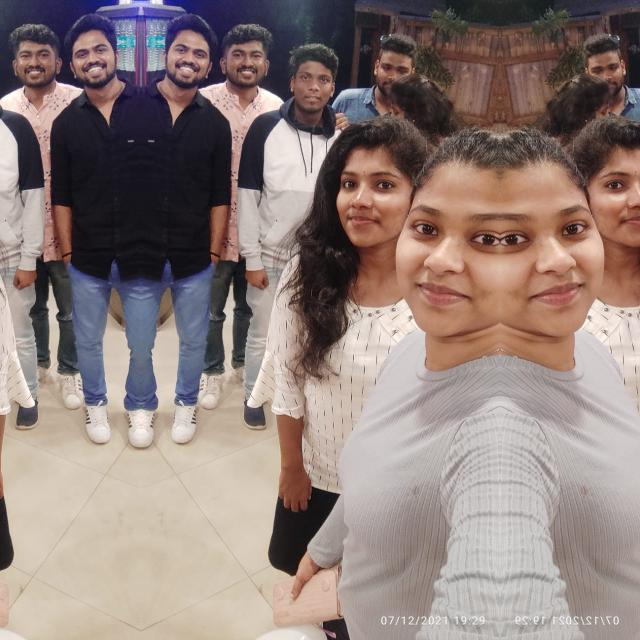person: (389, 138, 499, 640), (500, 138, 610, 640), (296, 120, 422, 510), (142, 4, 228, 453), (52, 4, 138, 453), (577, 119, 640, 510), (266, 35, 346, 244), (0, 34, 14, 243)
